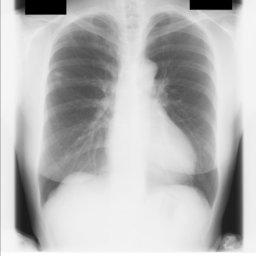left lobe: (146, 13, 216, 176)
right lobe: (40, 15, 119, 202)
